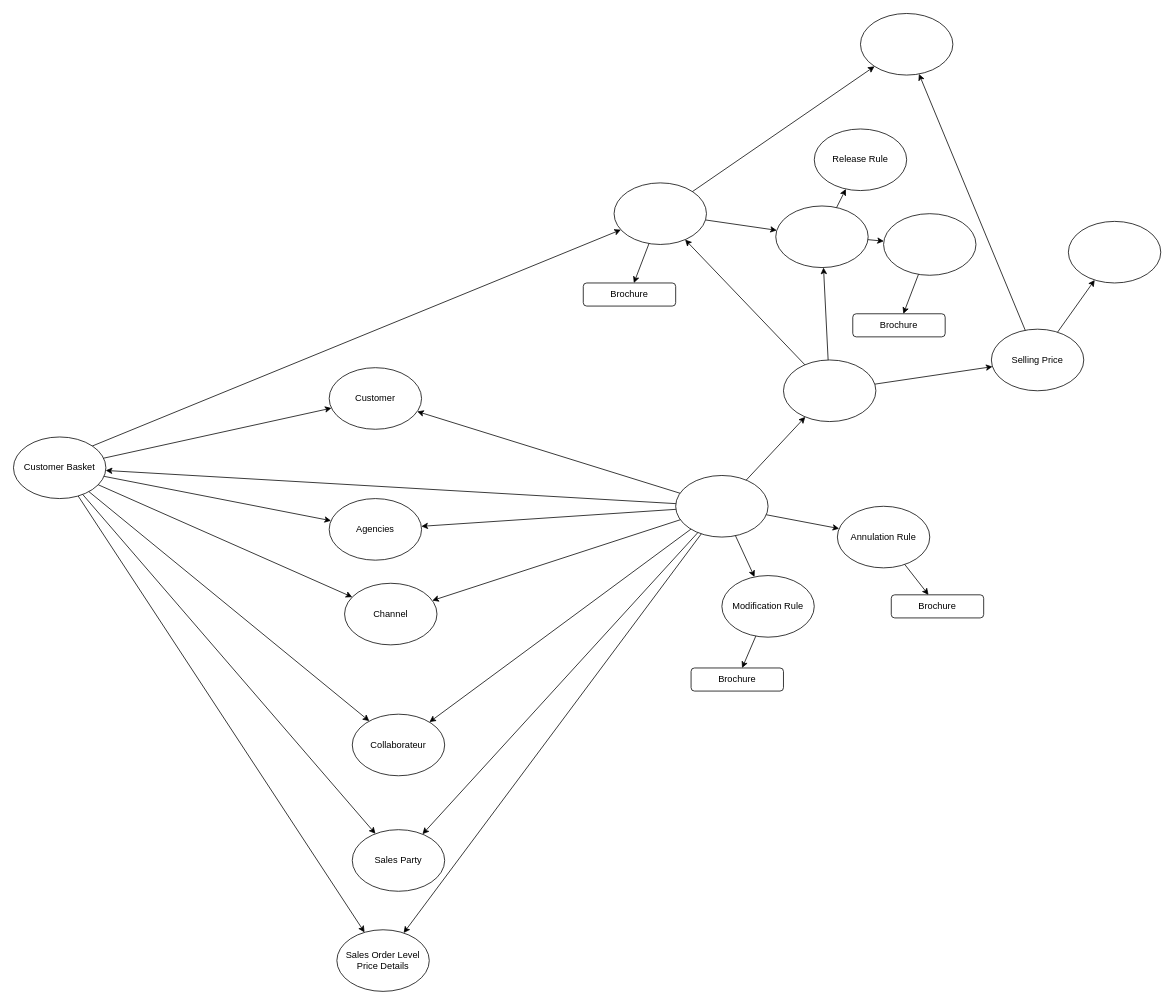
Image size: 1174x1005. Some labels were removed from this diagram. Each missing label, with the centre of its shape:
"Cost" goes at (906,44).
"Inventory" goes at (821,236).
"Markup" goes at (1114,252).
"Nesting Rules" goes at (929,244).
"Products" goes at (659,213).
"Reservation" goes at (829,390).
"Sales Order" goes at (721,506).
